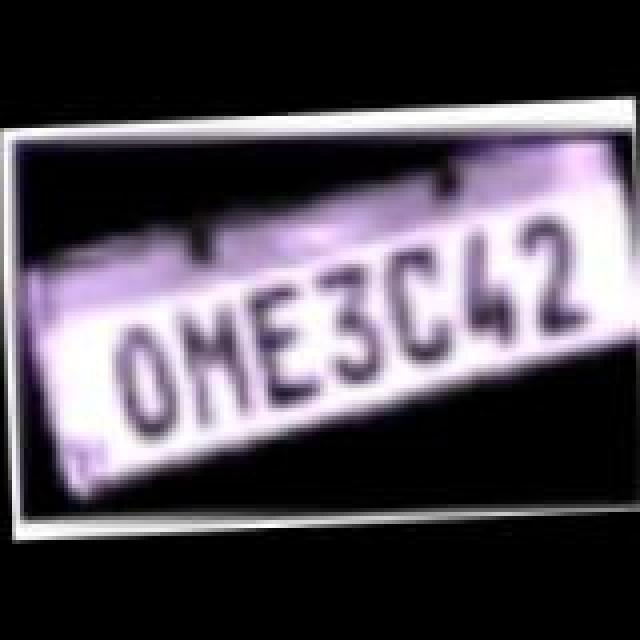2: (496, 206, 608, 342)
3: (298, 256, 402, 392)
4: (432, 222, 532, 354)
C: (366, 234, 470, 366)
E: (232, 272, 340, 404)
M: (160, 294, 272, 430)
O: (92, 316, 196, 444)
